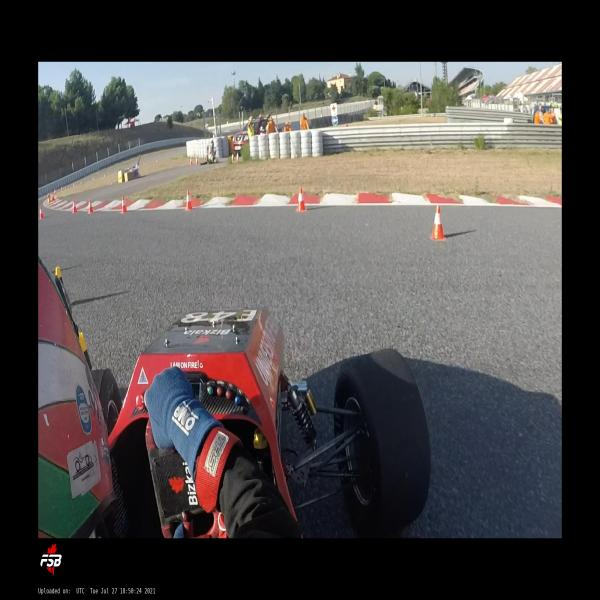orange_cone: (430, 206, 445, 240), (296, 187, 306, 212), (184, 190, 192, 210), (121, 195, 127, 214), (88, 199, 93, 214), (72, 199, 77, 213), (39, 206, 44, 220), (51, 193, 54, 201)
yellow_cone: (78, 332, 92, 370), (56, 267, 63, 285), (47, 193, 50, 203)
